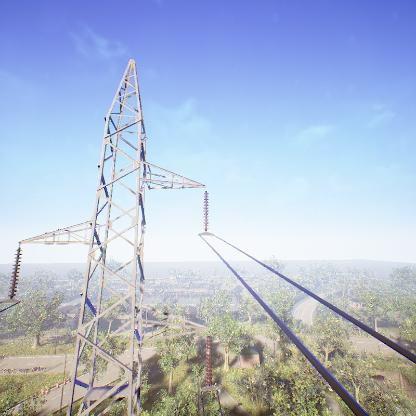tower: (1, 53, 219, 416)
